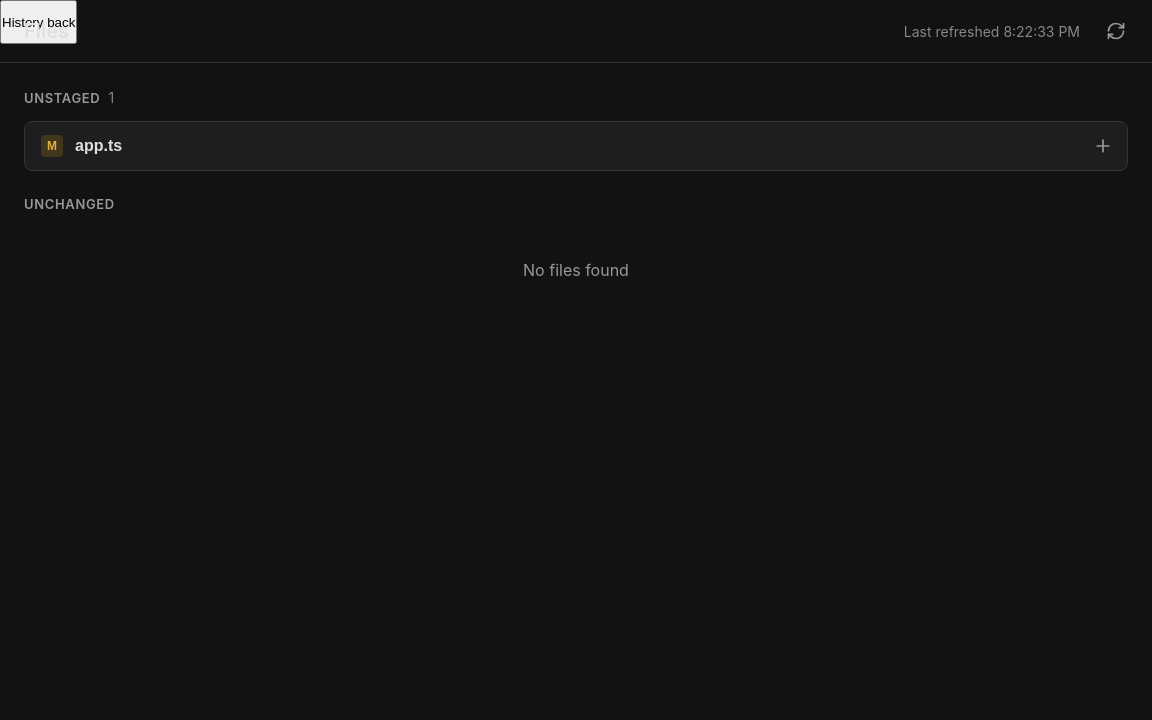
Test: FilesPage › does not refetch the diff on a status refresh while the editor is open
What coordinates should you click on to do the following:
click the button with class "changes-file-entry"
I would click on:
 (99, 145)
Its box is [25,122,1079,170].
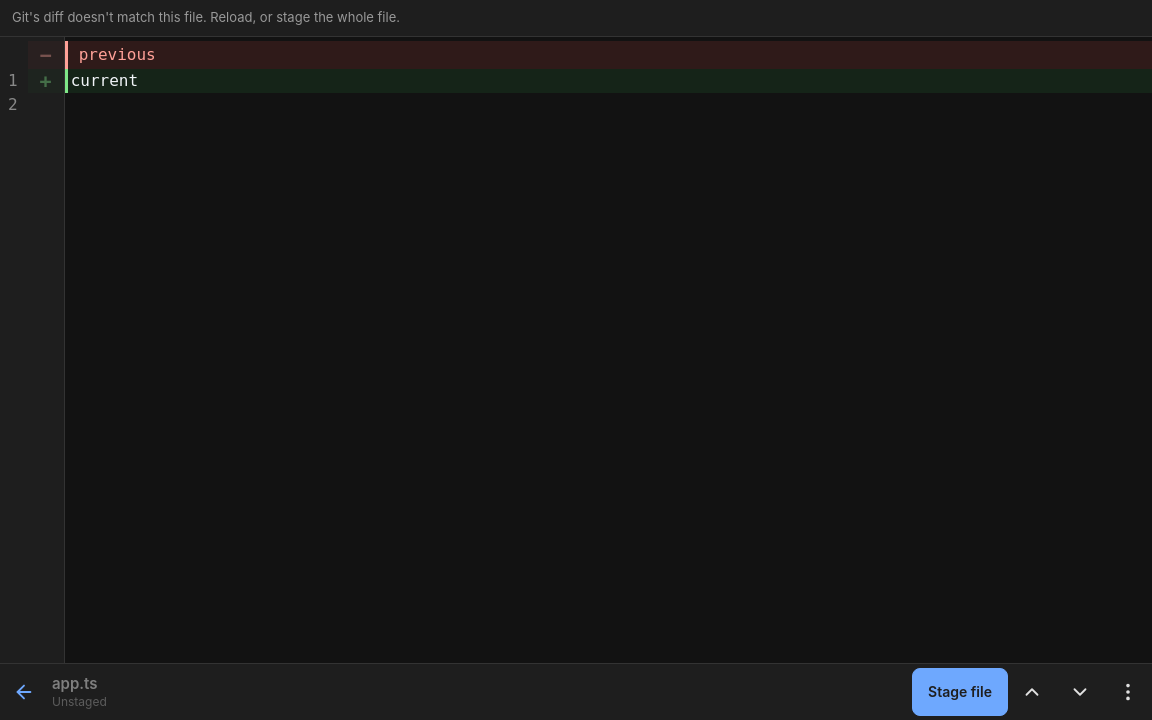
Now the button "Stage file" is shown, box [912,668,1008,716]
